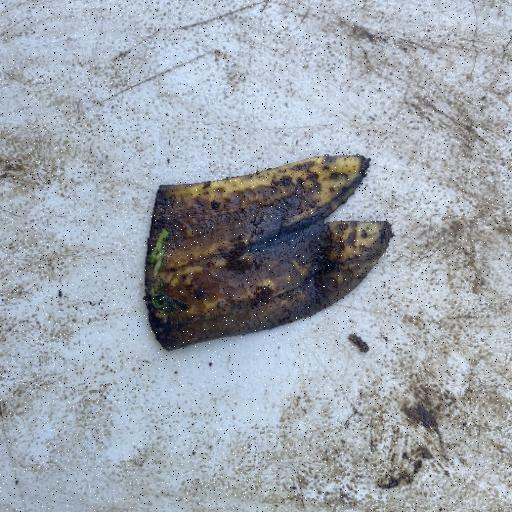Waste: (142, 151, 394, 353)
